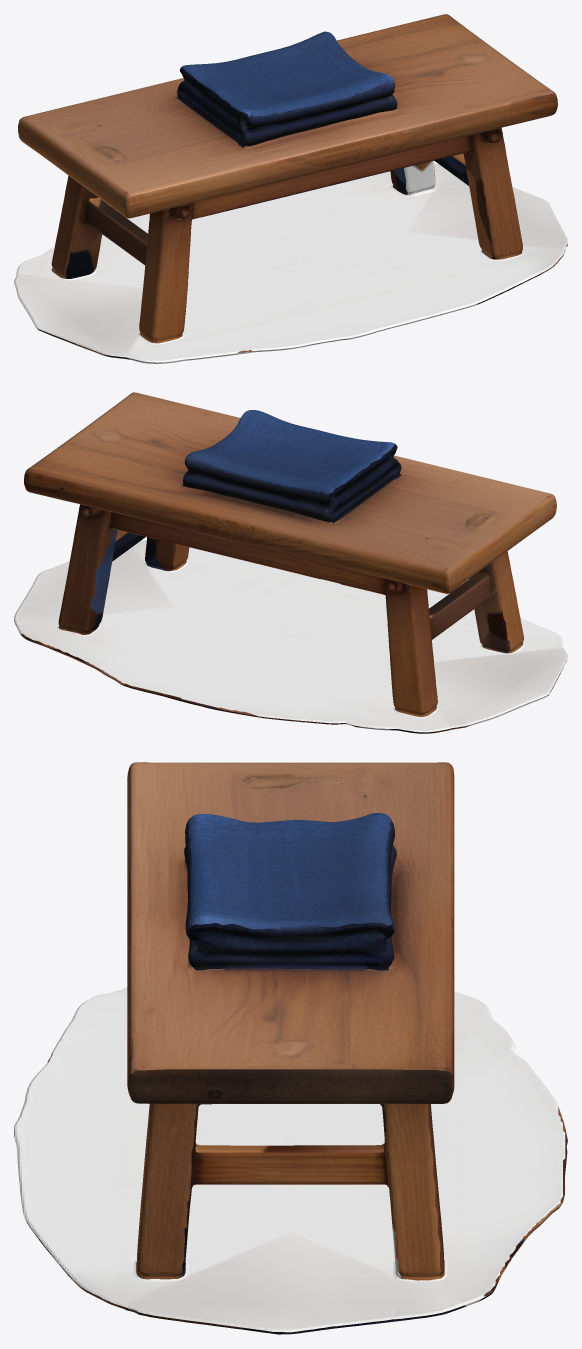
File: traveler_env_coast_hida_cell_cedar_bench_00001_.glb
The picture shows the model from 3 angles, top to bottom: view 1: azimuth 30°, elevation 25°; view 2: azimuth 150°, elevation 25°; view 3: azimuth 270°, elevation 25°; orthographic projection. The views are drawn at different scales.
Visible parts, largest first — view 1: temp_mesh.ply; view 2: temp_mesh.ply; view 3: temp_mesh.ply.
Part boxes in pixels (x1,y1,x2,y2): temp_mesh.ply: (14,14,567,363); temp_mesh.ply: (14,392,567,733); temp_mesh.ply: (14,762,567,1334).
Bounding box in the file's own units: 1.97 × 0.72 × 1.25.
1 material, 1 textured.
